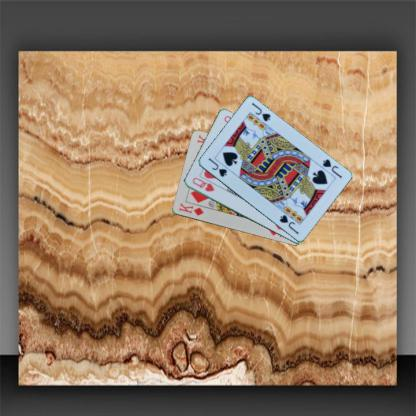Js: (320, 156, 343, 180), (205, 155, 228, 178)
Kd: (176, 200, 205, 218)
Qh: (190, 174, 216, 193)
